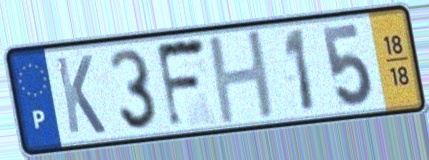1: (279, 25, 317, 117)
3: (108, 46, 160, 132)
5: (319, 20, 375, 110)
F: (153, 34, 210, 133)
H: (204, 26, 279, 128)
K: (52, 52, 109, 137)
